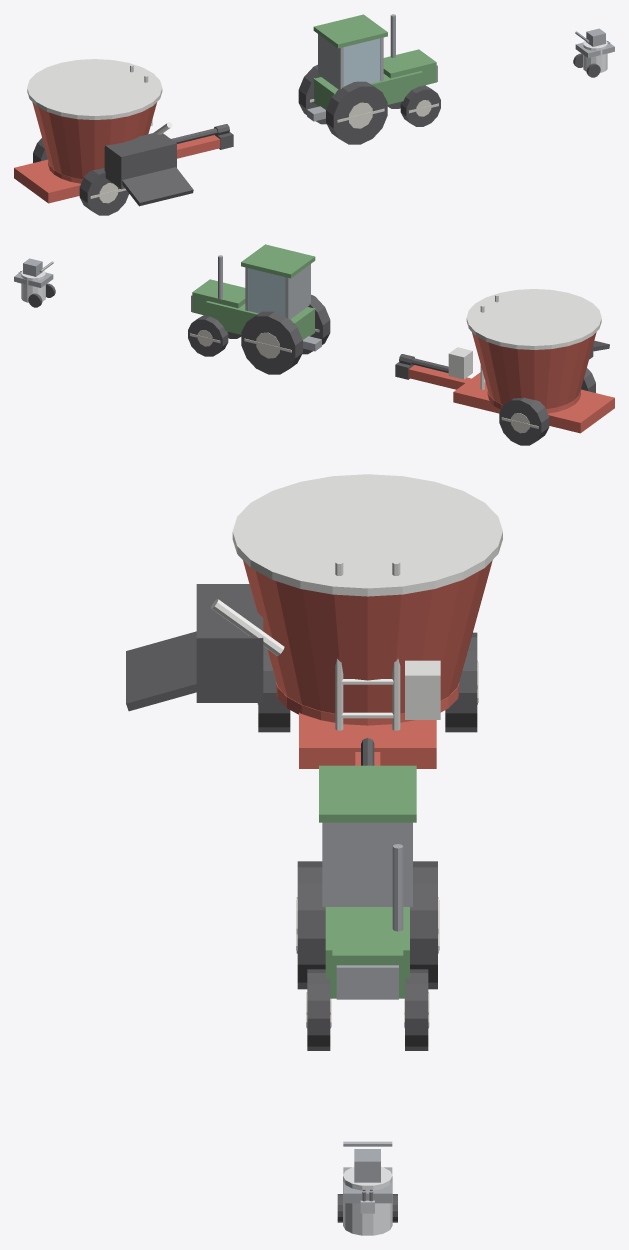
The model's file is machines.glb.
3 renders of one model, top to bottom at view 1: azimuth 30°, elevation 25°; view 2: azimuth 150°, elevation 25°; view 3: azimuth 270°, elevation 25°, orthographic. The views are drawn at different scales.
Visible parts, largest first — view 1: Mx_rim, Mx_tub, Mx_chuteBody, Wheel_RR_tyre, Mx_chuteTray, Mx_chassis, Tr_cabin, Tr_roof, Tr_body, Mx_WheelR_tyre, Tr_hood, Wheel_FR_tyre (+8 smaller); view 2: Mx_rim, Mx_tub, Mx_chassis, Wheel_RL_tyre, Mx_WheelL_tyre, Tr_cabin, Tr_roof, Tr_body, Tr_hood, Wheel_FL_tyre, Tr_cabPost, Mx_drawbar (+6 smaller); view 3: Mx_rim, Mx_tub, Mx_chuteBody, Tr_cabPost.001, Tr_roof, Mx_chassis, Mx_chuteTray, Tr_hood, Wheel_RR_tyre, Wheel_RL_tyre, Tr_grille, Mx_hydraulic (+8 smaller).
Part boxes in pixels (x1,y1,x2,y2): Mx_rim: (27,59,162,119); Mx_tub: (32,102,156,179); Mx_chuteBody: (104,132,176,189); Wheel_RR_tyre: (326,81,387,144); Mx_chuteTray: (122,167,193,206); Mx_chassis: (14,159,80,203); Tr_cabin: (343,38,380,86); Tr_roof: (313,14,387,48); Tr_body: (313,71,422,109); Mx_WheelR_tyre: (79,168,129,215); Tr_hood: (383,49,436,85); Wheel_FR_tyre: (400,85,440,126); Mx_rim: (466,289,601,349); Mx_tub: (472,332,596,409); Mx_chassis: (453,372,614,433); Wheel_RL_tyre: (241,311,302,374); Mx_WheelL_tyre: (499,397,549,445); Tr_cabin: (248,268,285,316); Tr_roof: (241,244,315,278); Tr_body: (206,301,315,339); Tr_hood: (192,279,245,315); Wheel_FL_tyre: (188,315,228,356); Tr_cabPost: (285,264,310,319); Mx_drawbar: (408,365,471,389); Mx_rim: (232,474,502,596); Mx_tub: (243,560,492,713); Mx_chuteBody: (196,584,263,702); Tr_cabPost.001: (322,822,412,906); Tr_roof: (319,765,416,822); Mx_chassis: (299,712,436,768); Mx_chuteTray: (126,631,196,711); Tr_hood: (332,910,403,995); Wheel_RR_tyre: (297,861,325,989); Wheel_RL_tyre: (410,861,437,989); Tr_grille: (336,965,398,999); Mx_hydraulic: (405,660,440,719).
Size of the model in its own units: 15.04 by 2.75 by 4.24.
